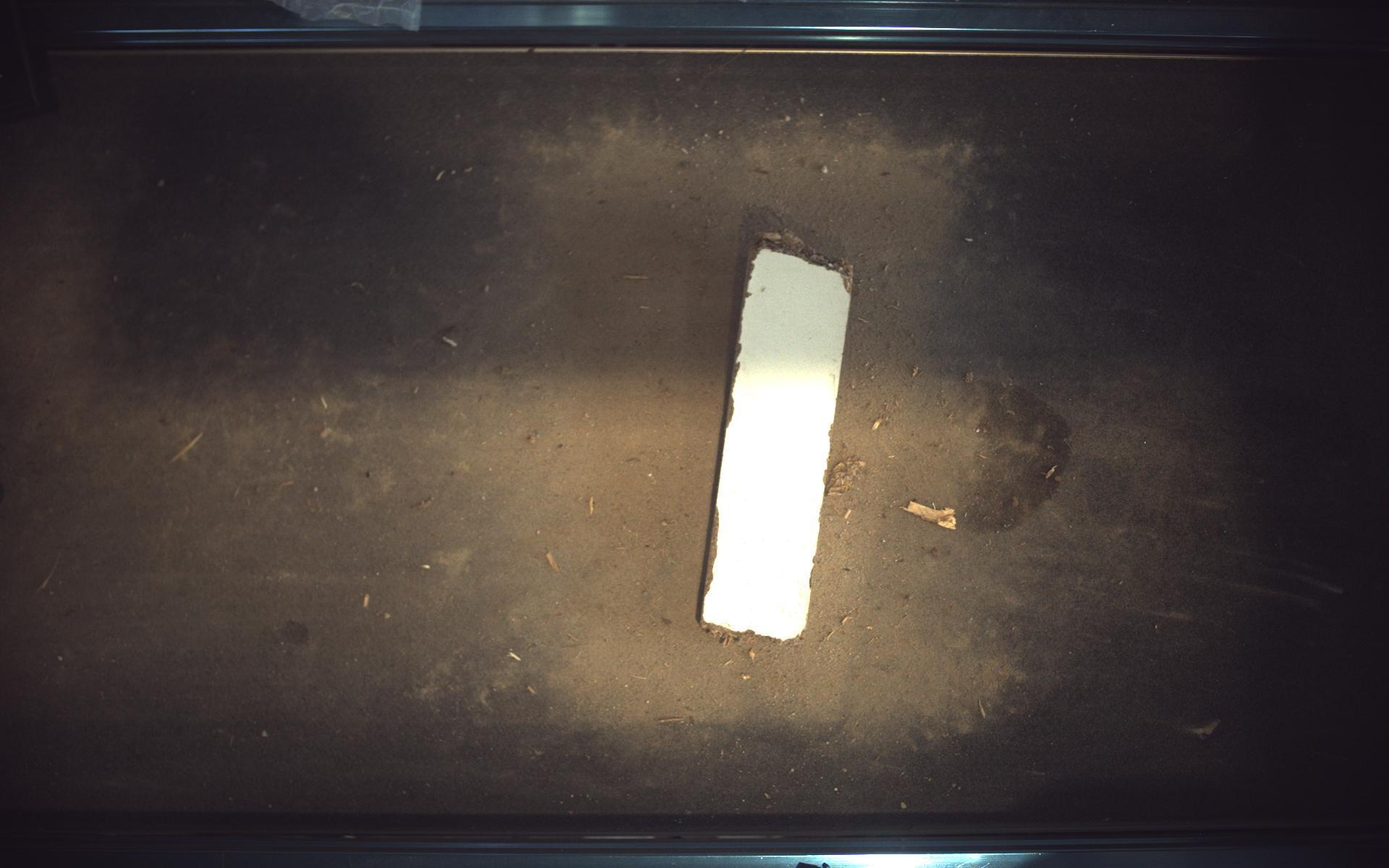wood: (702, 233, 853, 641)
